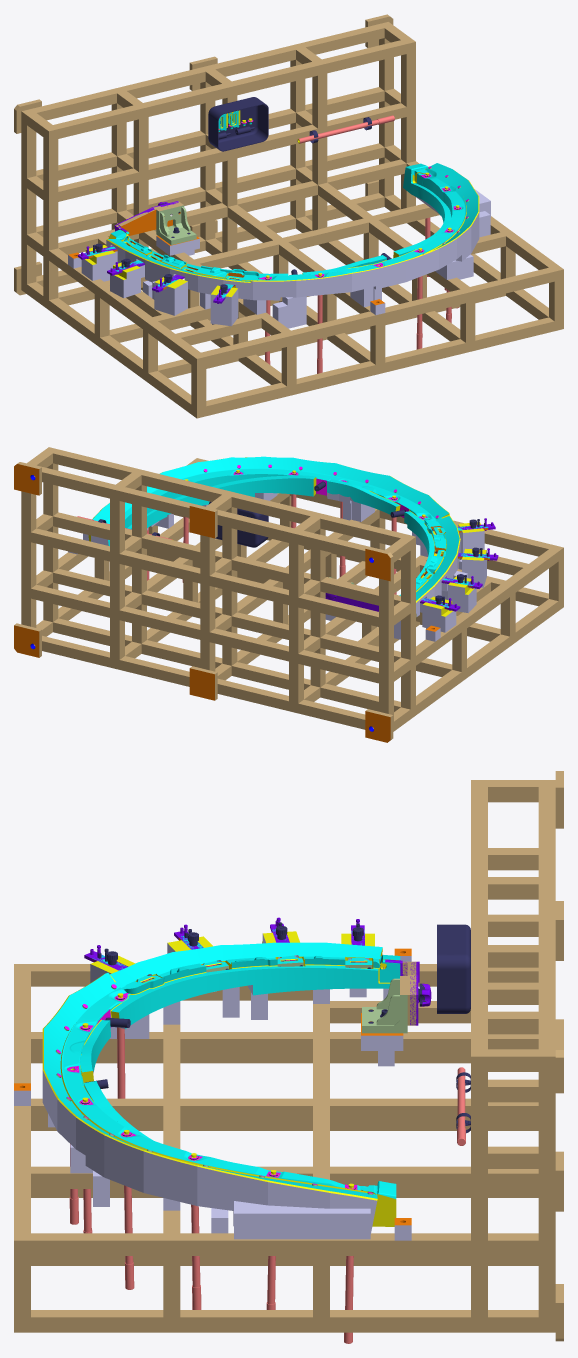
File: ZZ145946-75601_2-48090-K00_260511_KEN_RL.obj
3 views of the same model, one above another, from view 1: azimuth 30°, elevation 25°; view 2: azimuth 150°, elevation 25°; view 3: azimuth 270°, elevation 25° (orthographic). The views are drawn at different scales.
Visible parts, largest first — view 1: Shell_119, Shell_085, Shell_076, Shell_079, Shell_086, Shell_084, Shell_083, Shell_088, Shell_078, Shell_087, Shell_072, Shell_070 (+48 smaller); view 2: Shell_119, Shell_088, Shell_087, Shell_085, Shell_086, Shell_089, Shell_084, Shell_083, Shell_082, Shell_072, Shell_070, Shell_075 (+47 smaller); view 3: Shell_119, Shell_096, Shell_094, Shell_086, Shell_099, Shell_085, Shell_076, Shell_072, Shell_030, Shell_032, Shell_011, Shell_277 (+38 smaller).
Boxes of the visible parts, bbox=[...] form: Shell_119: bbox=[105, 163, 490, 300]; Shell_085: bbox=[53, 40, 406, 138]; Shell_076: bbox=[201, 267, 554, 366]; Shell_079: bbox=[206, 317, 554, 415]; Shell_086: bbox=[31, 24, 384, 120]; Shell_084: bbox=[58, 103, 406, 201]; Shell_083: bbox=[58, 159, 406, 254]; Shell_088: bbox=[36, 143, 384, 236]; Shell_078: bbox=[104, 203, 439, 287]; Shell_087: bbox=[36, 87, 384, 180]; Shell_072: bbox=[22, 282, 196, 418]; Shell_070: bbox=[27, 232, 205, 364]; Shell_119: bbox=[83, 456, 460, 617]; Shell_088: bbox=[31, 584, 378, 683]; Shell_087: bbox=[31, 528, 378, 626]; Shell_085: bbox=[53, 449, 405, 545]; Shell_086: bbox=[33, 465, 383, 560]; Shell_089: bbox=[33, 635, 373, 729]; Shell_084: bbox=[53, 512, 400, 605]; Shell_083: bbox=[53, 568, 400, 662]; Shell_082: bbox=[53, 618, 400, 711]; Shell_072: bbox=[393, 599, 563, 731]; Shell_070: bbox=[394, 545, 563, 681]; Shell_075: bbox=[379, 562, 393, 722]; Shell_119: bbox=[42, 942, 400, 1239]; Shell_096: bbox=[14, 1310, 554, 1332]; Shell_094: bbox=[14, 1233, 538, 1255]; Shell_086: bbox=[538, 787, 555, 1049]; Shell_099: bbox=[538, 1057, 555, 1332]; Shell_085: bbox=[471, 787, 487, 1049]; Shell_076: bbox=[14, 971, 30, 1233]; Shell_072: bbox=[31, 1054, 470, 1063]; Shell_030: bbox=[180, 1098, 312, 1121]; Shell_032: bbox=[330, 1098, 470, 1121]; Shell_011: bbox=[180, 1032, 312, 1054]; Shell_277: bbox=[437, 924, 470, 1013].
Size of the model in its own units: 1192 by 614 by 975.
